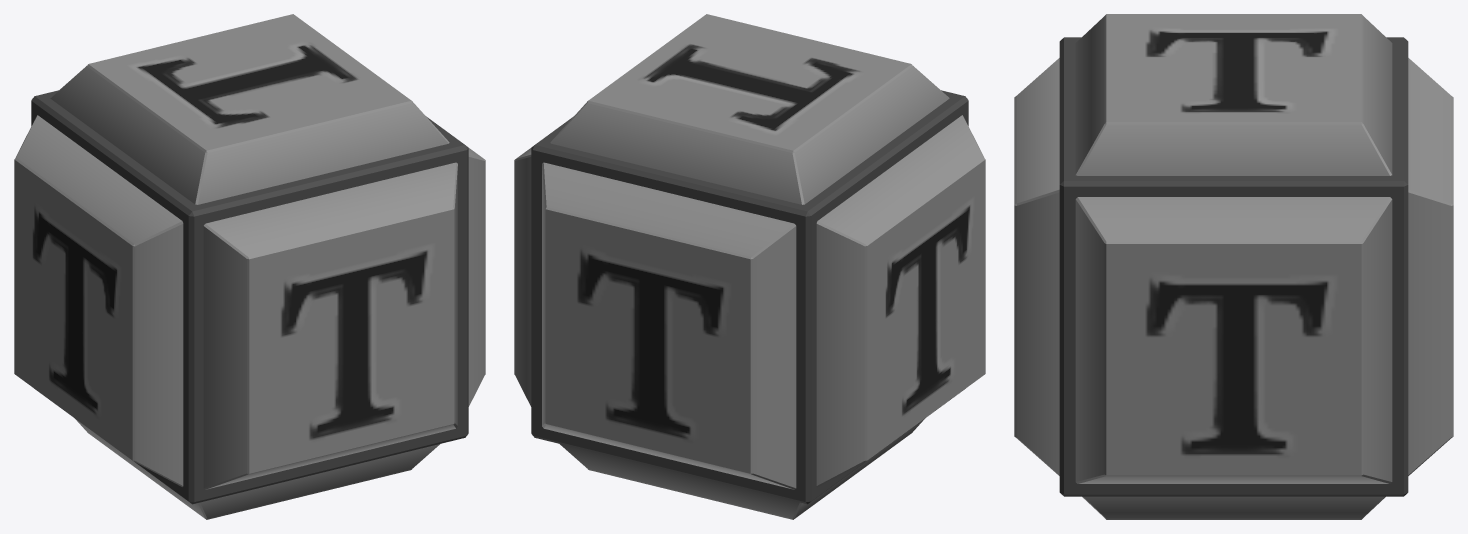
3 renders of one model, left to right at view 1: azimuth 30°, elevation 25°; view 2: azimuth 150°, elevation 25°; view 3: azimuth 270°, elevation 25°, orthographic. The views are drawn at different scales.
Visible parts, largest first — view 1: T; view 2: T; view 3: T.
Part boxes in pixels (x1=…): T: x1=14, y1=14, x2=485, y2=519; T: x1=514, y1=14, x2=985, y2=519; T: x1=1014, y1=14, x2=1453, y2=519.
Size of the model in its own units: 101 by 101 by 101.
